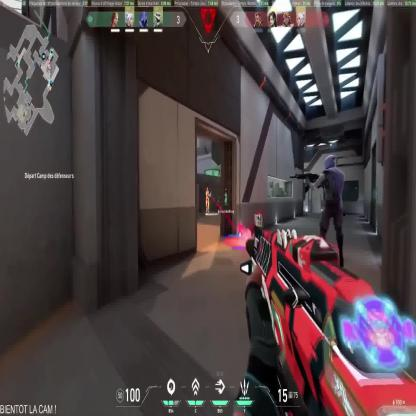enemy: (206, 187, 212, 213)
enemy_head: (206, 187, 208, 192)
